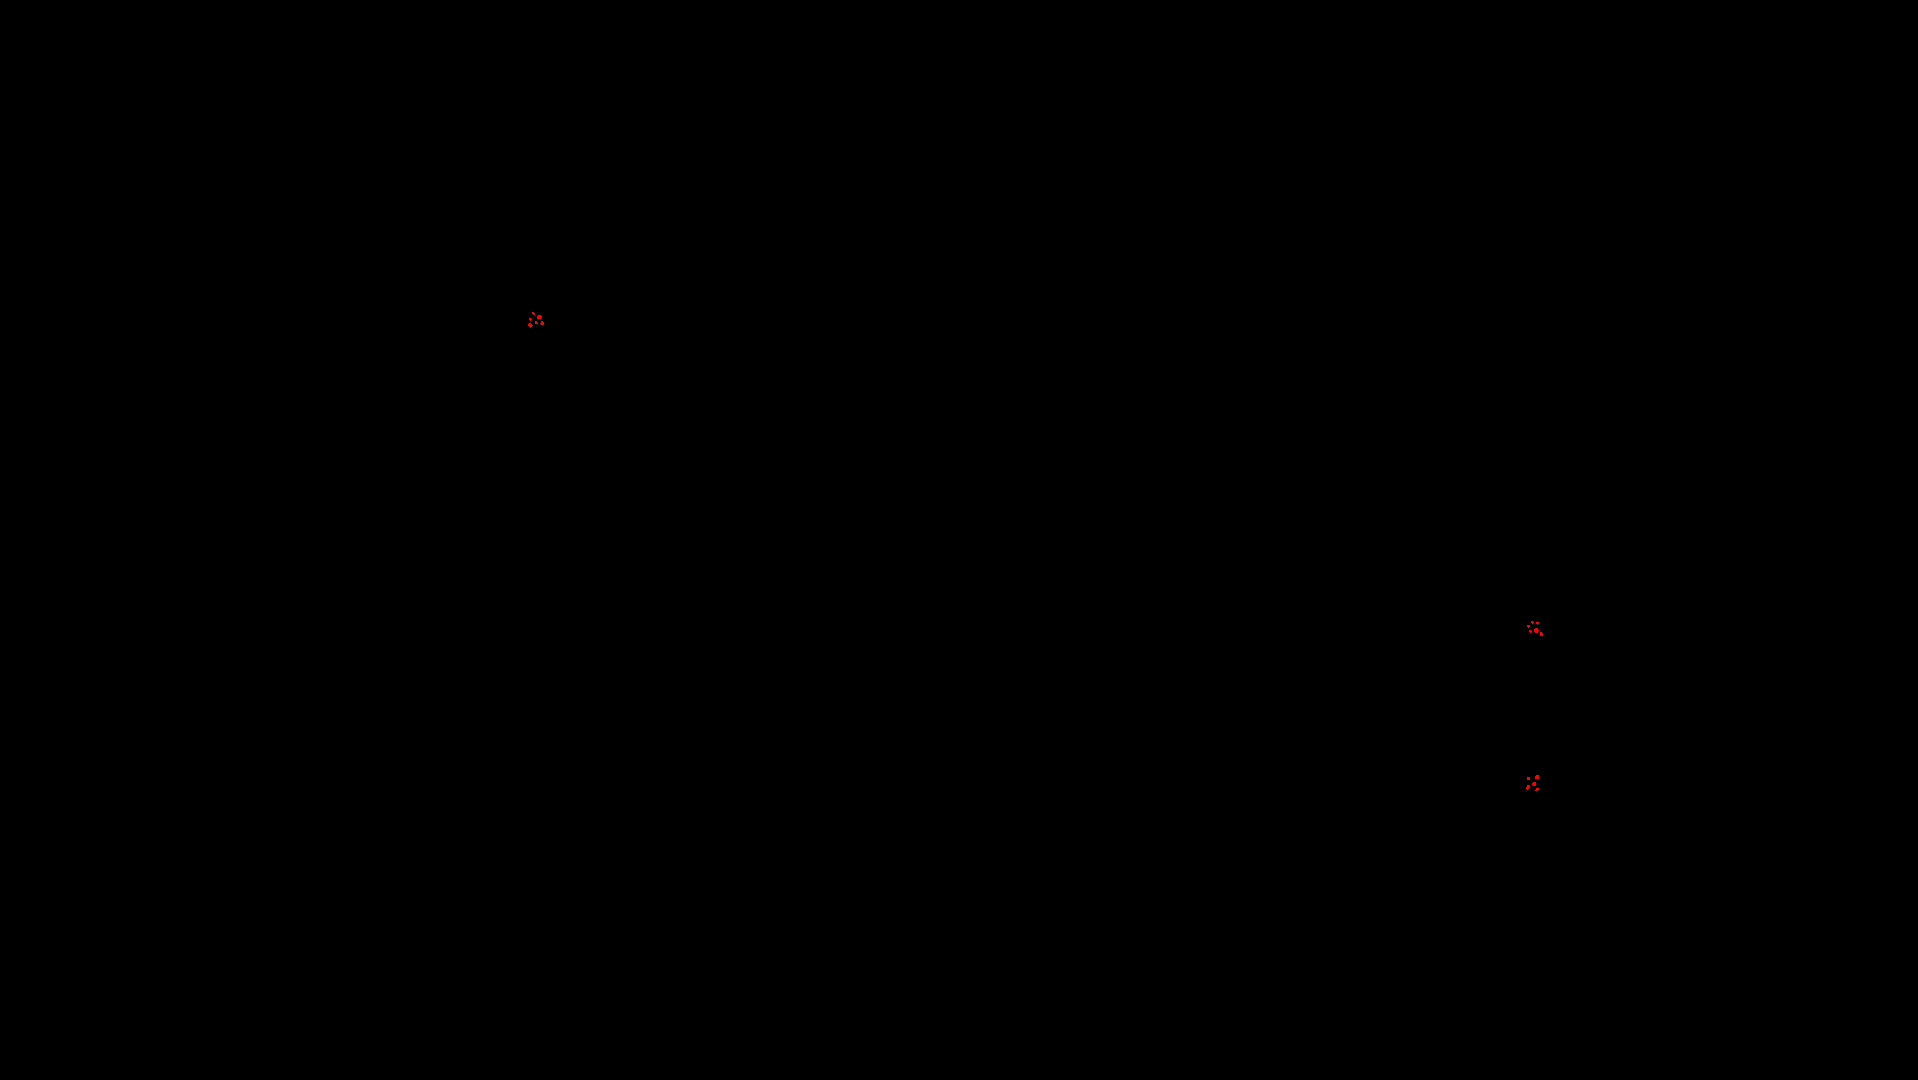Target: (528, 323, 534, 328), (1533, 628, 1539, 634), (1525, 785, 1529, 790), (537, 315, 541, 319), (540, 321, 544, 325), (1535, 774, 1539, 778), (1532, 782, 1536, 786), (1535, 788, 1539, 792), (530, 317, 532, 321), (1536, 622, 1539, 626), (1529, 630, 1532, 634), (1540, 632, 1543, 636), (532, 312, 535, 315), (535, 321, 537, 324), (1531, 622, 1533, 624), (1527, 626, 1529, 628), (1527, 777, 1529, 780)
